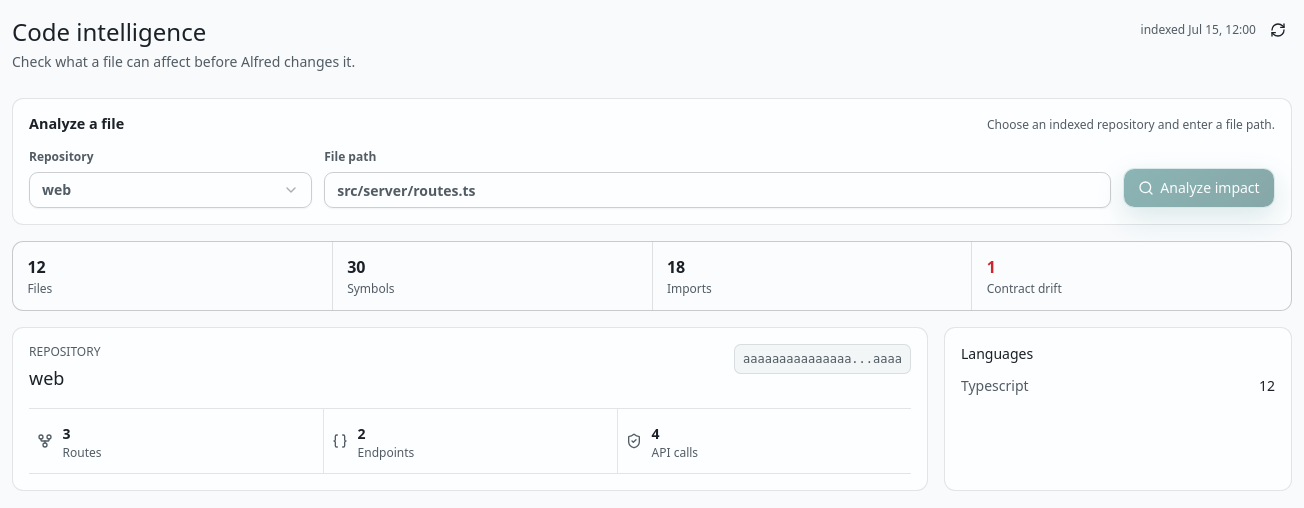
Test: CodeIntelligenceView › does not leave stale impact evidence visible after a read failure
This screenshot has width=1304, height=508.
Step 1. Type "src/api.ts" into the field labelled "File path" → (718, 190), box [324,172,1111,208]
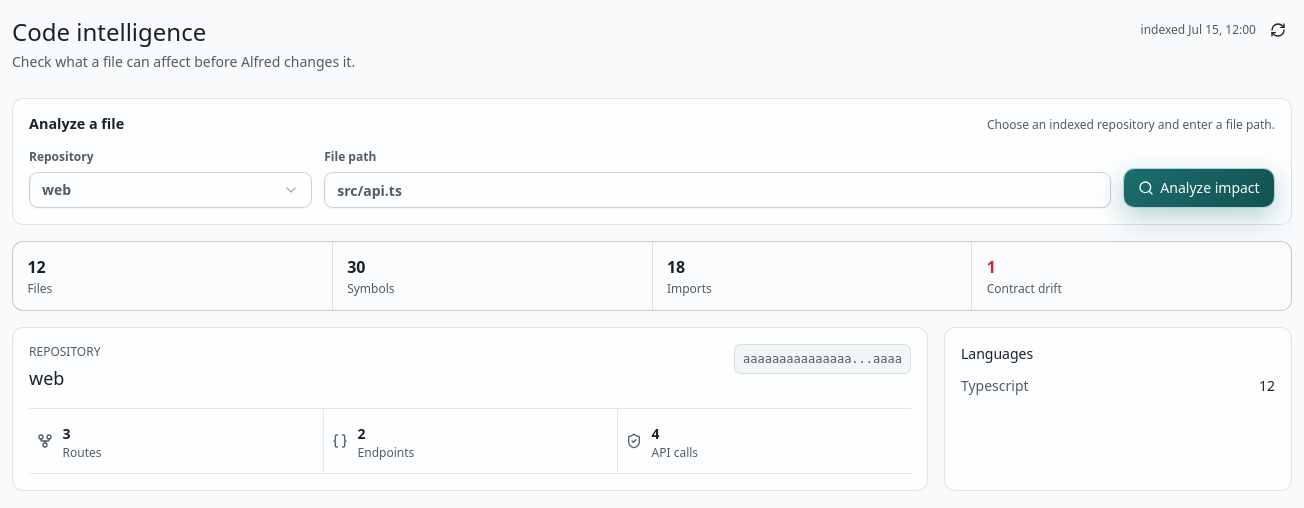
Step 2. Click the button "Analyze impact" → (1199, 188), box [1123,168,1275,208]
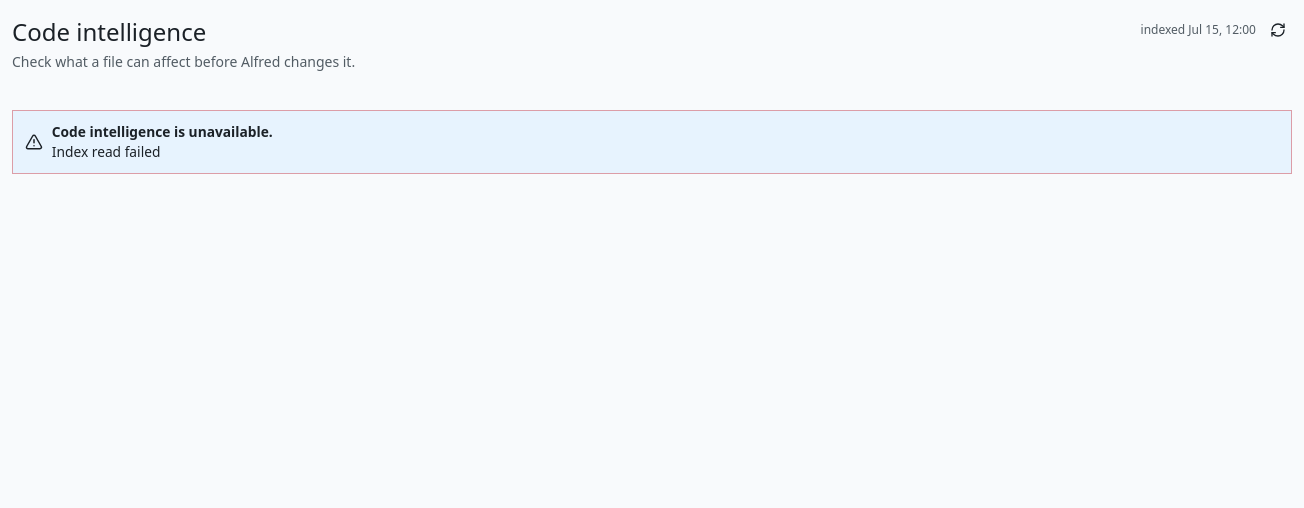
Expected: the text "Code intelligence is unavailable." is shown, [52,122,273,141]
